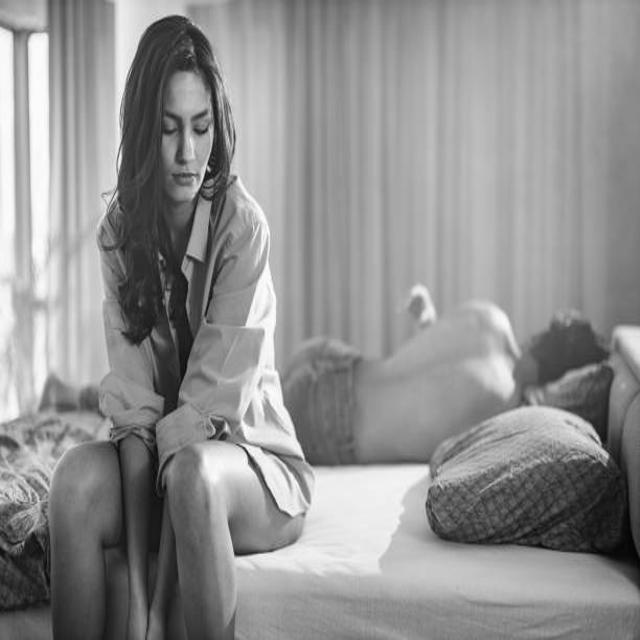Sadness: (154, 67, 218, 205)
